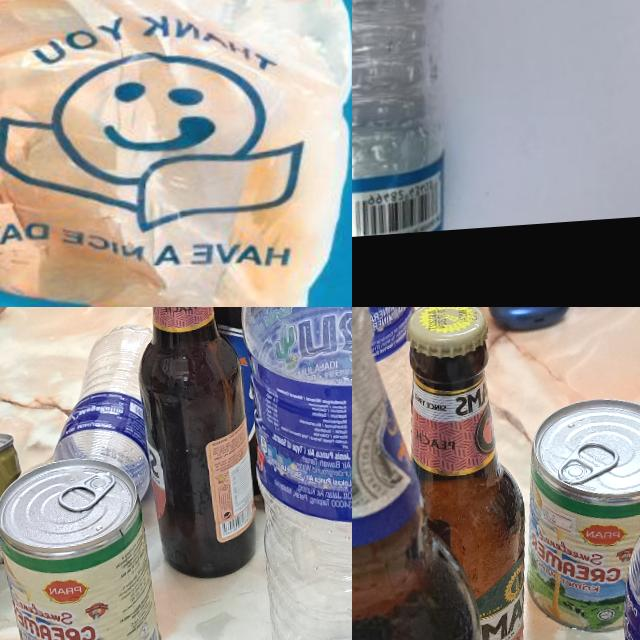aba de lata: (555, 438, 621, 484), (53, 467, 119, 512)
garrafa de vidro: (392, 307, 537, 640), (352, 307, 495, 640), (129, 307, 261, 578)
garrafa plástica: (231, 307, 352, 640), (352, 0, 463, 245), (44, 320, 163, 508), (586, 469, 640, 640)
lata: (0, 448, 164, 640), (519, 396, 640, 636), (0, 426, 25, 571)
sacola plástica: (0, 0, 352, 307)
